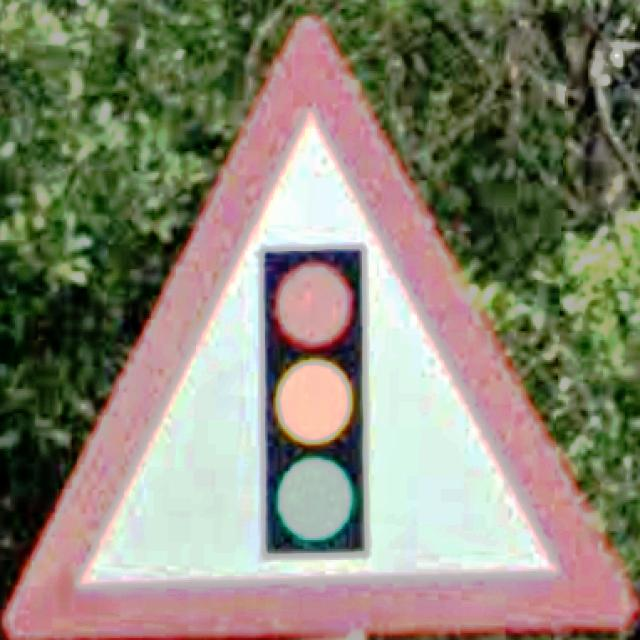signalahead: (5, 18, 637, 640)
